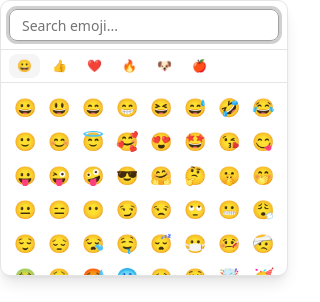
EmojiPicker › switches category when tab is clicked
The image size is (320, 302).
Click the button with test id "emoji-category-Hearts" at [94, 66], box [79,54,110,78]
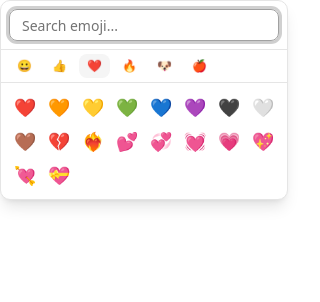
Expected: the number of buttons with test id "emoji-option" is 18
